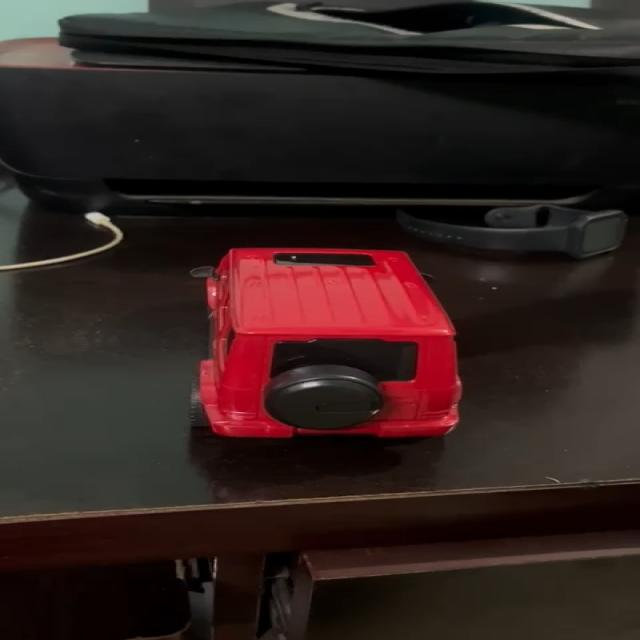light_vehicle: (181, 238, 470, 440)
